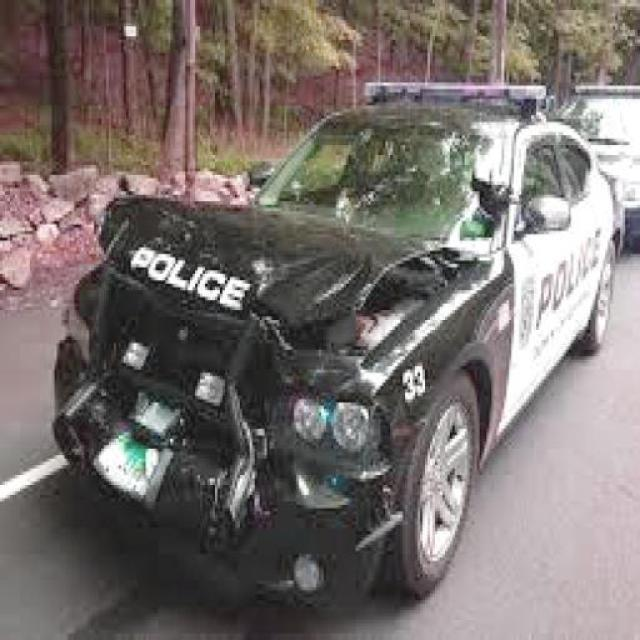Car-Damage: (51, 177, 518, 593)
